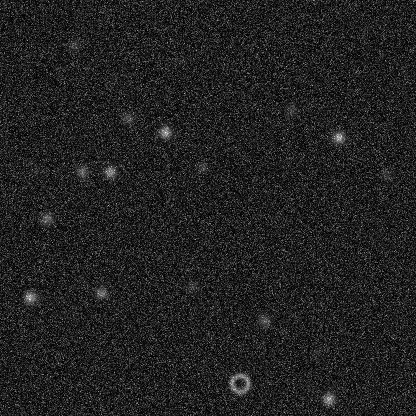Ring: (227, 371, 251, 395)
Spot: (102, 163, 118, 179), (174, 53, 190, 69), (320, 390, 336, 406), (183, 279, 199, 295), (22, 289, 38, 305), (28, 161, 44, 177), (74, 163, 90, 179), (282, 102, 298, 118), (330, 129, 346, 145), (93, 284, 109, 300), (38, 210, 54, 226), (119, 110, 135, 126), (66, 36, 82, 52), (157, 124, 173, 140), (194, 159, 210, 175), (256, 312, 272, 328), (308, 344, 324, 360), (378, 166, 394, 182)
